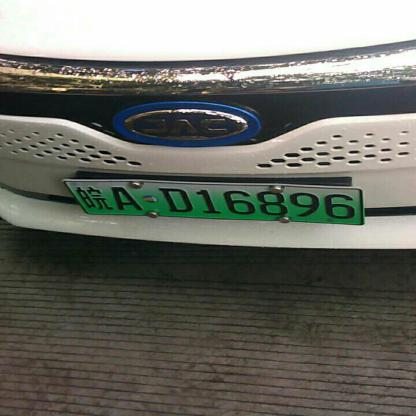lp: (65, 181, 362, 223)
